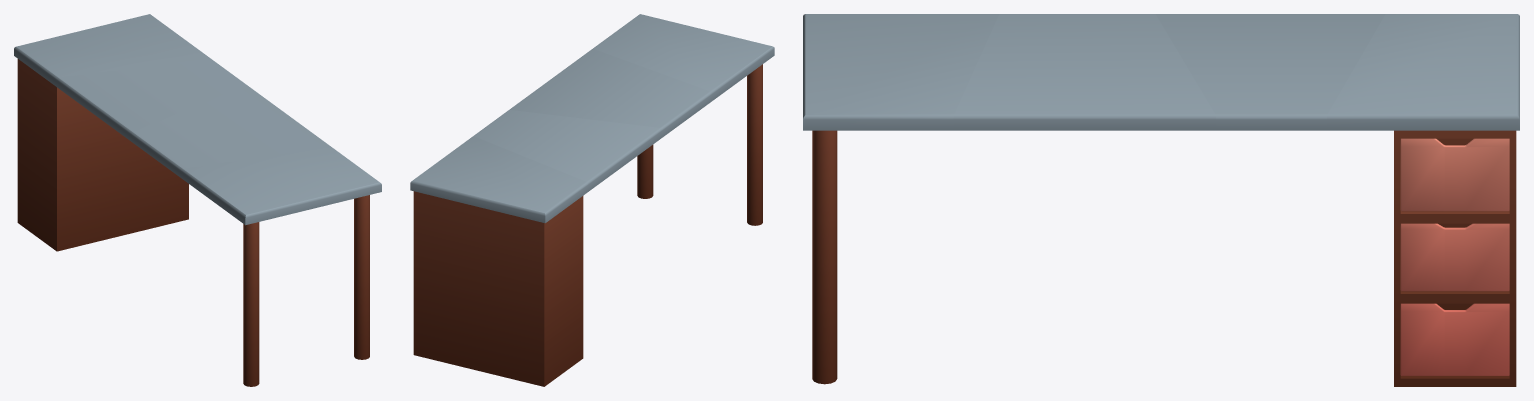
The model's file is Desk_Broken.fbx.
3 views of the same model, side by side, from view 1: azimuth 30°, elevation 25°; view 2: azimuth 150°, elevation 25°; view 3: azimuth 270°, elevation 25° (orthographic). The views are drawn at different scales.
Visible parts, largest first — view 1: Desk_1_Broke.008, Desk_1_Broke.001, Desk_1_Broke.005, Desk_1_Broke.004, Desk_1_Broke.006, Desk_1_Broke.007, Desk_1_Broke.003, Desk_1_Broke.002, Desk_1_Broke; view 2: Desk_1_Broke.008, Desk_1_Broke.005, Desk_1_Broke.007, Desk_1_Broke.006, Desk_1_Broke.004, Desk_1_Broke.001, Desk_1_Broke, Desk_1_Broke.003, Desk_1_Broke.002; view 3: Desk_1_Broke, Desk_1_Broke.005, Desk_1_Broke.001, Desk_1_Broke.006, Desk_1_Broke.004, Desk_1_Broke.002.
Boxes of the visible parts, left/top/right/bottom form: Desk_1_Broke.008: left=17, top=124, right=165, bottom=251; Desk_1_Broke.001: left=182, top=147, right=381, bottom=225; Desk_1_Broke.005: left=132, top=85, right=330, bottom=178; Desk_1_Broke.004: left=57, top=59, right=246, bottom=141; Desk_1_Broke.006: left=14, top=14, right=210, bottom=86; Desk_1_Broke.007: left=17, top=59, right=106, bottom=180; Desk_1_Broke.003: left=243, top=222, right=259, bottom=386; Desk_1_Broke.002: left=354, top=195, right=369, bottom=359; Desk_1_Broke: left=144, top=151, right=188, bottom=224; Desk_1_Broke.008: left=436, top=236, right=583, bottom=386; Desk_1_Broke.005: left=509, top=49, right=711, bottom=137; Desk_1_Broke.007: left=439, top=196, right=583, bottom=316; Desk_1_Broke.006: left=410, top=136, right=587, bottom=223; Desk_1_Broke.004: left=473, top=110, right=662, bottom=191; Desk_1_Broke.001: left=593, top=14, right=774, bottom=101; Desk_1_Broke: left=413, top=191, right=472, bottom=360; Desk_1_Broke.003: left=747, top=64, right=762, bottom=225; Desk_1_Broke.002: left=637, top=145, right=653, bottom=198; Desk_1_Broke: left=1394, top=130, right=1516, bottom=386; Desk_1_Broke.005: left=953, top=14, right=1216, bottom=130; Desk_1_Broke.001: left=803, top=14, right=999, bottom=130; Desk_1_Broke.006: left=1326, top=14, right=1519, bottom=130; Desk_1_Broke.004: left=1155, top=14, right=1385, bottom=130; Desk_1_Broke.002: left=812, top=130, right=837, bottom=384.
Bounding box in the file's own units: 207 × 255 × 608.
